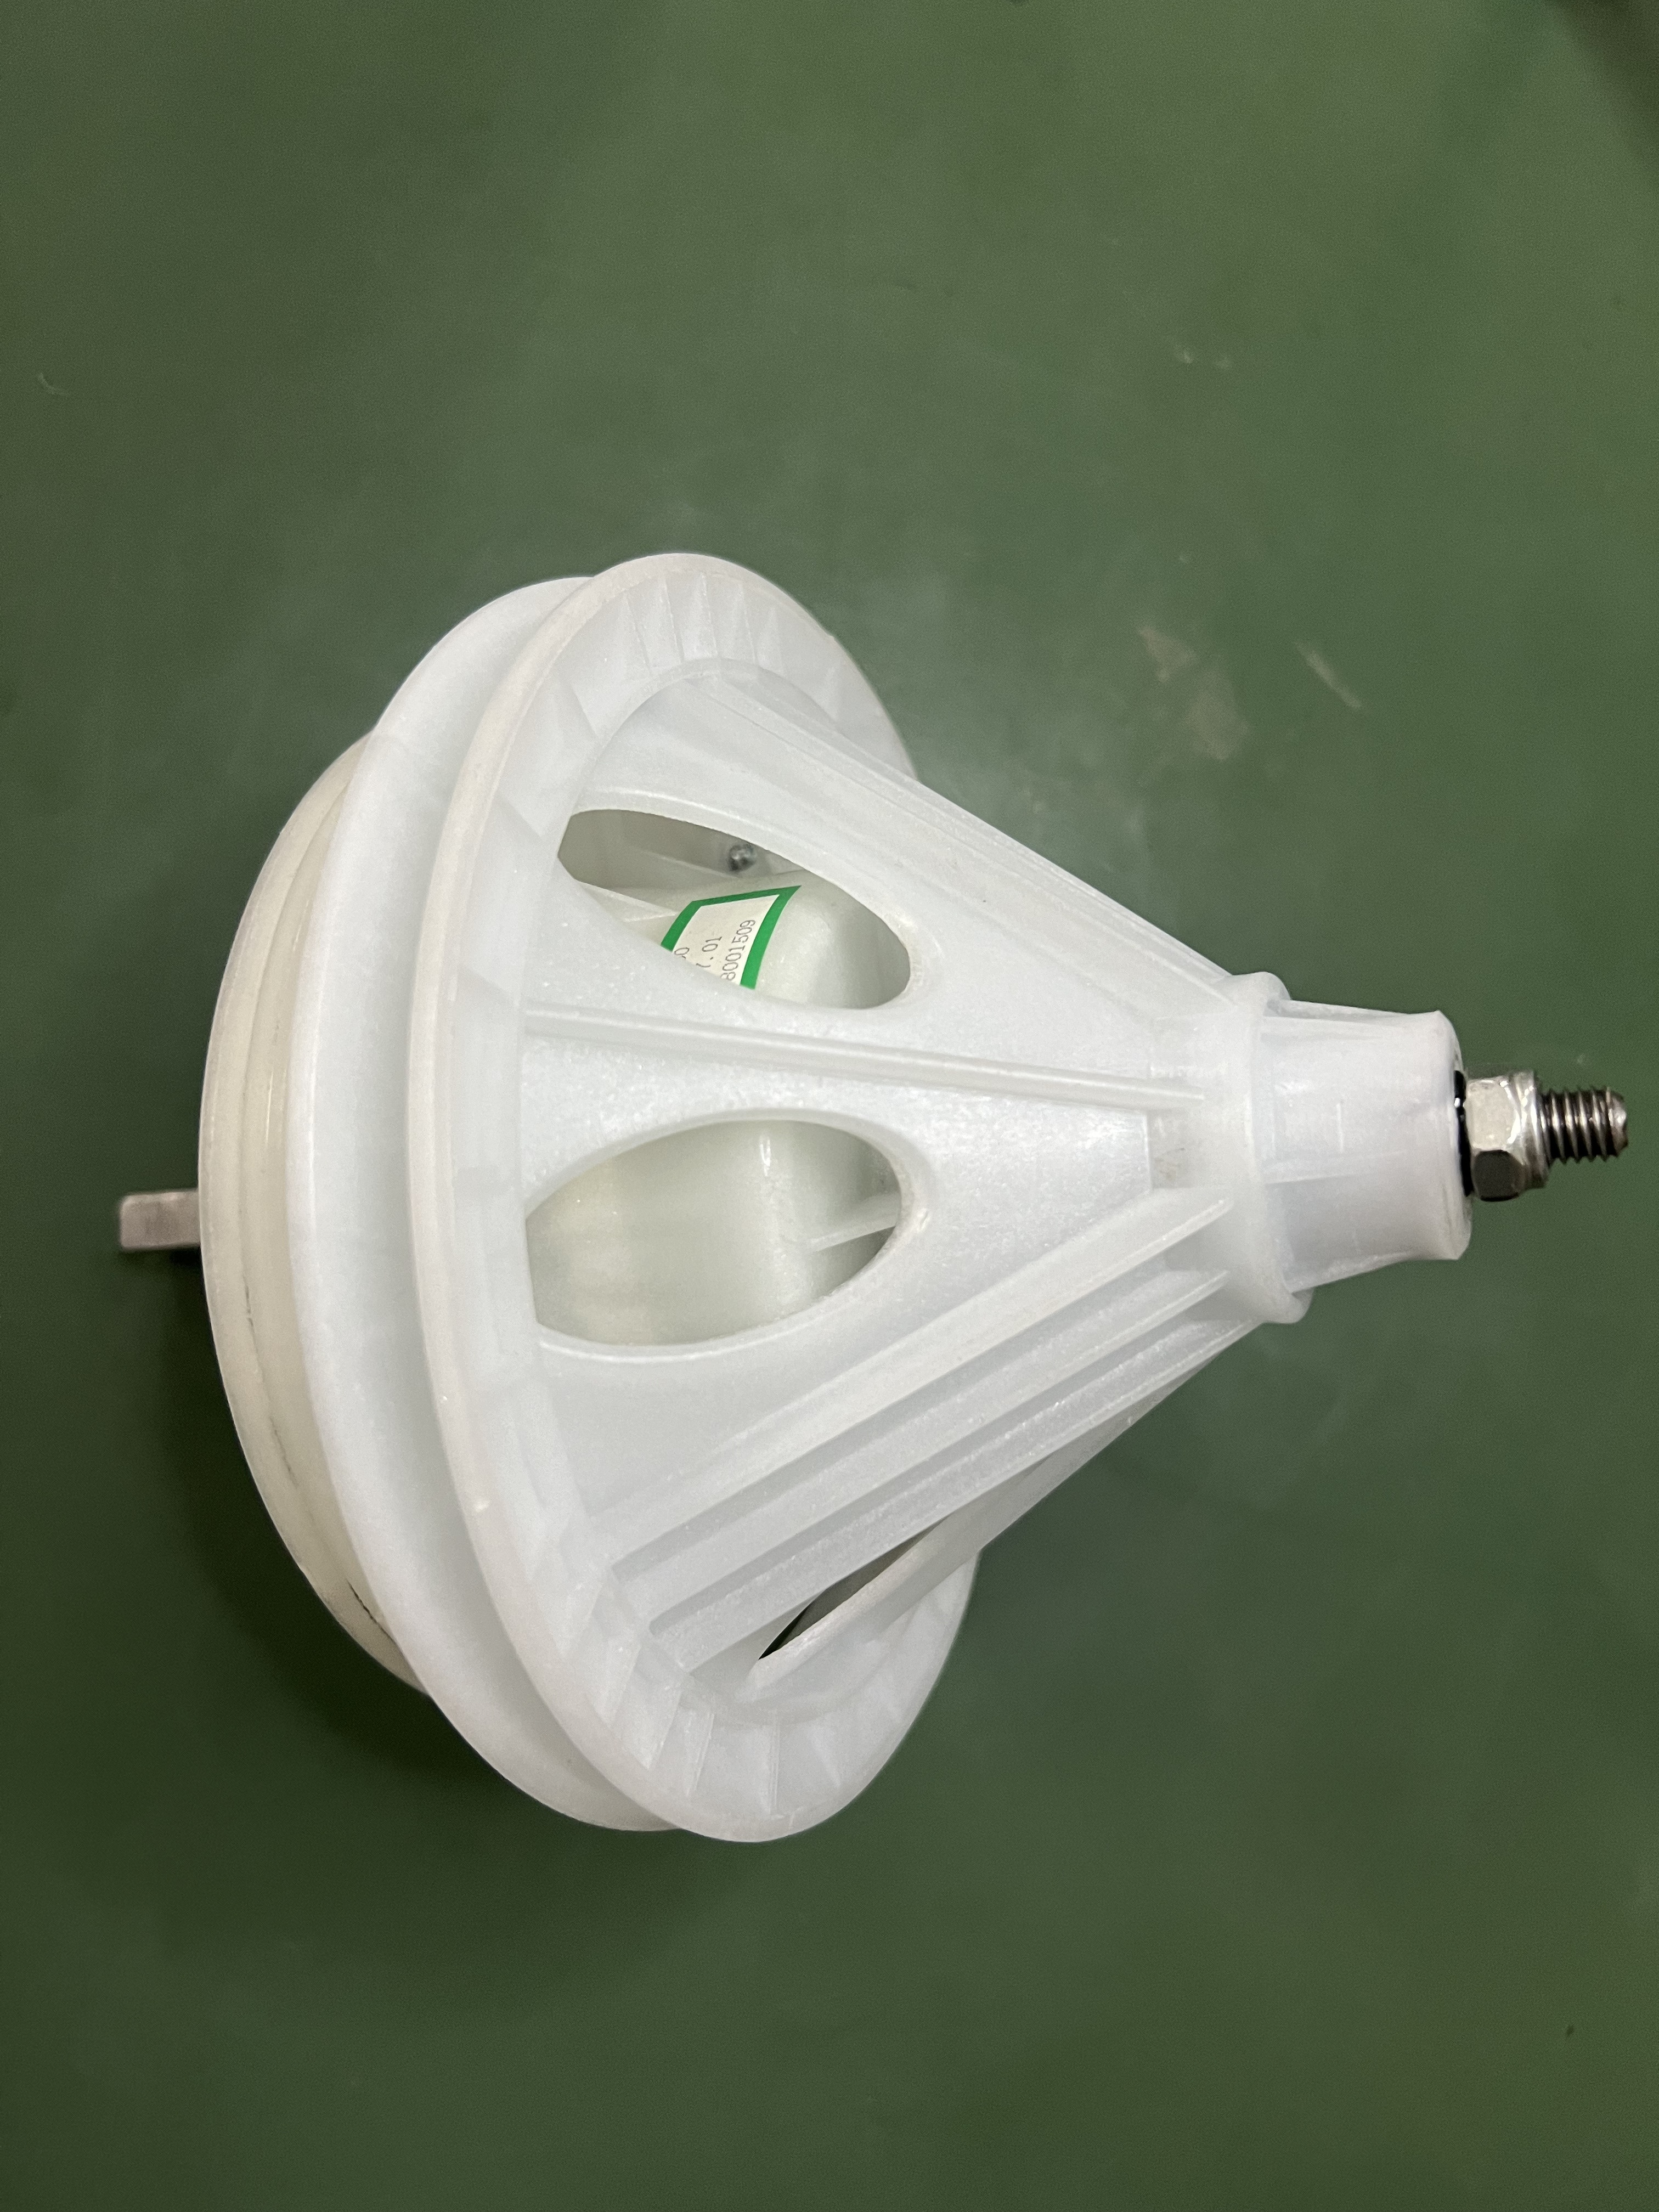gear_box_ovul: (94, 523, 1628, 1863)
